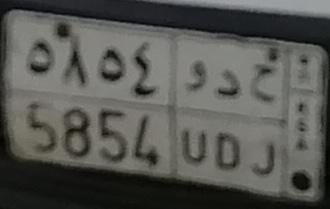4: (132, 41, 162, 168)
5: (25, 38, 59, 154), (98, 46, 128, 164)
8: (62, 38, 93, 159)
D: (216, 69, 242, 172)
J: (251, 62, 276, 177)
U: (183, 58, 209, 166)
